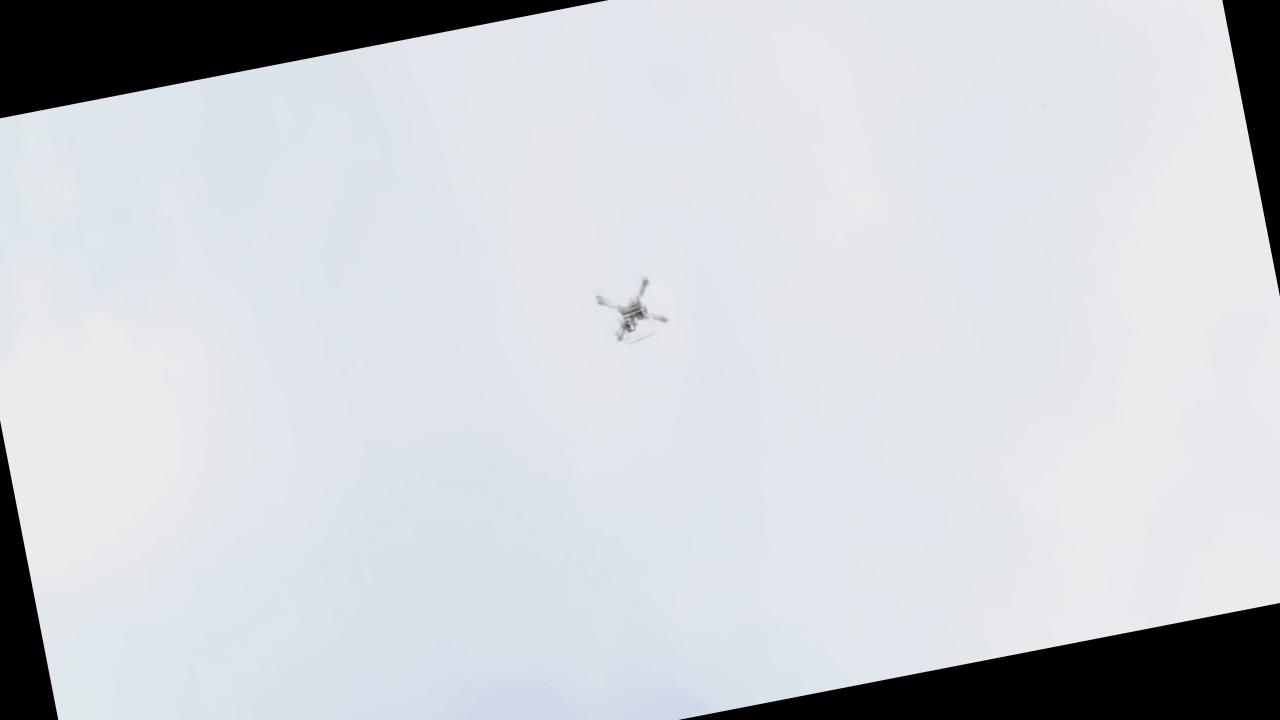drone: (580, 262, 682, 350)
